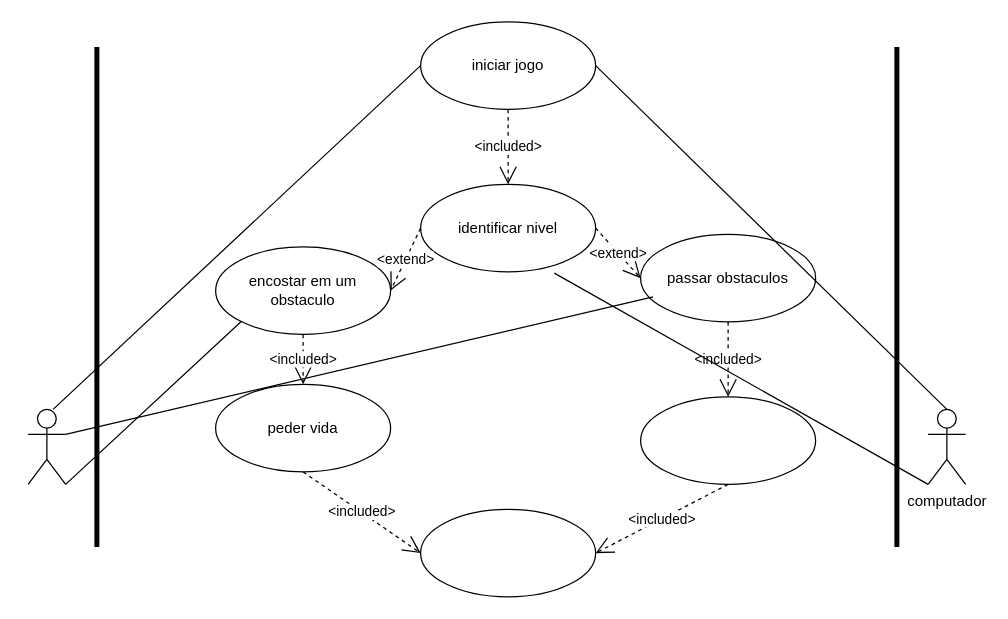
Some shapes in this 1008 by 619 pixel diagram are drawn without their labels. Here are the shapes that lost their labels. From the top down, the centre of each, then its label:
At point (46, 446): "jogador".
At point (727, 440): "continuar jogo".
At point (507, 552): "jogar novamente".
